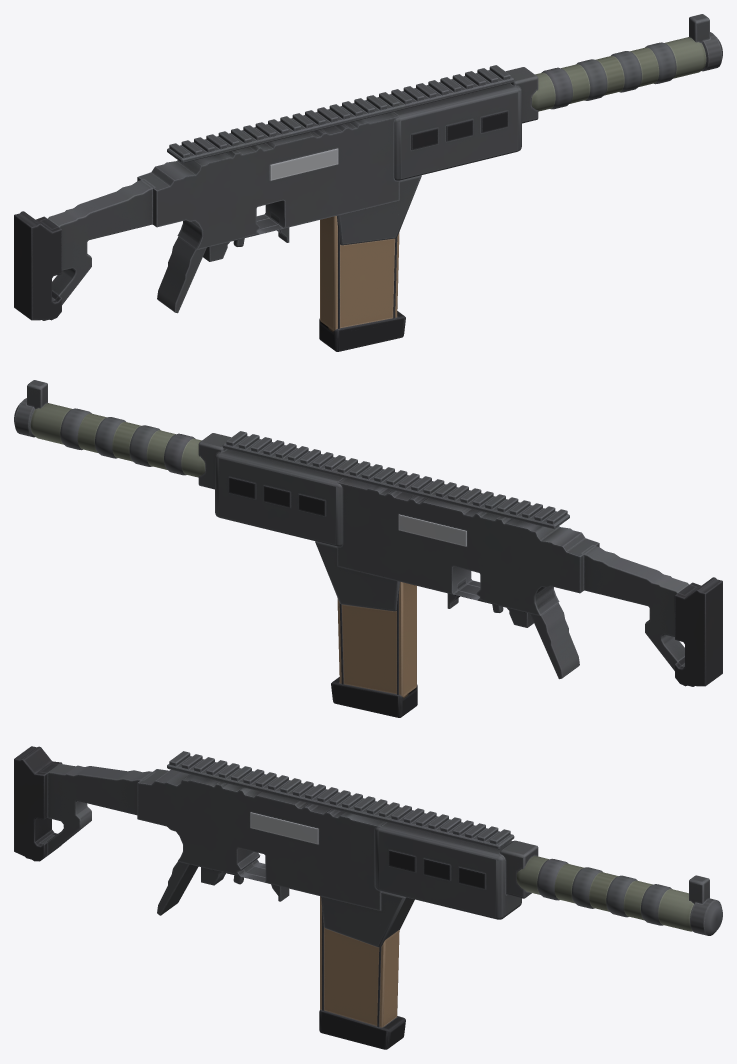
The picture shows the model from 3 angles, top to bottom: view 1: azimuth 30°, elevation 25°; view 2: azimuth 150°, elevation 25°; view 3: azimuth 330°, elevation 25°; orthographic projection.
Visible parts, largest first — view 1: AT_AG203; view 2: AT_AG203; view 3: AT_AG203.
Boxes of the visible parts, x1=… form: AT_AG203: x1=14, y1=14, x2=722, y2=351; AT_AG203: x1=14, y1=380, x2=722, y2=717; AT_AG203: x1=14, y1=746, x2=722, y2=1049.
Bounding box in the file's own units: 0.541 × 0.1787 × 0.0314.
Materials: 1 (1 with a texture image).
